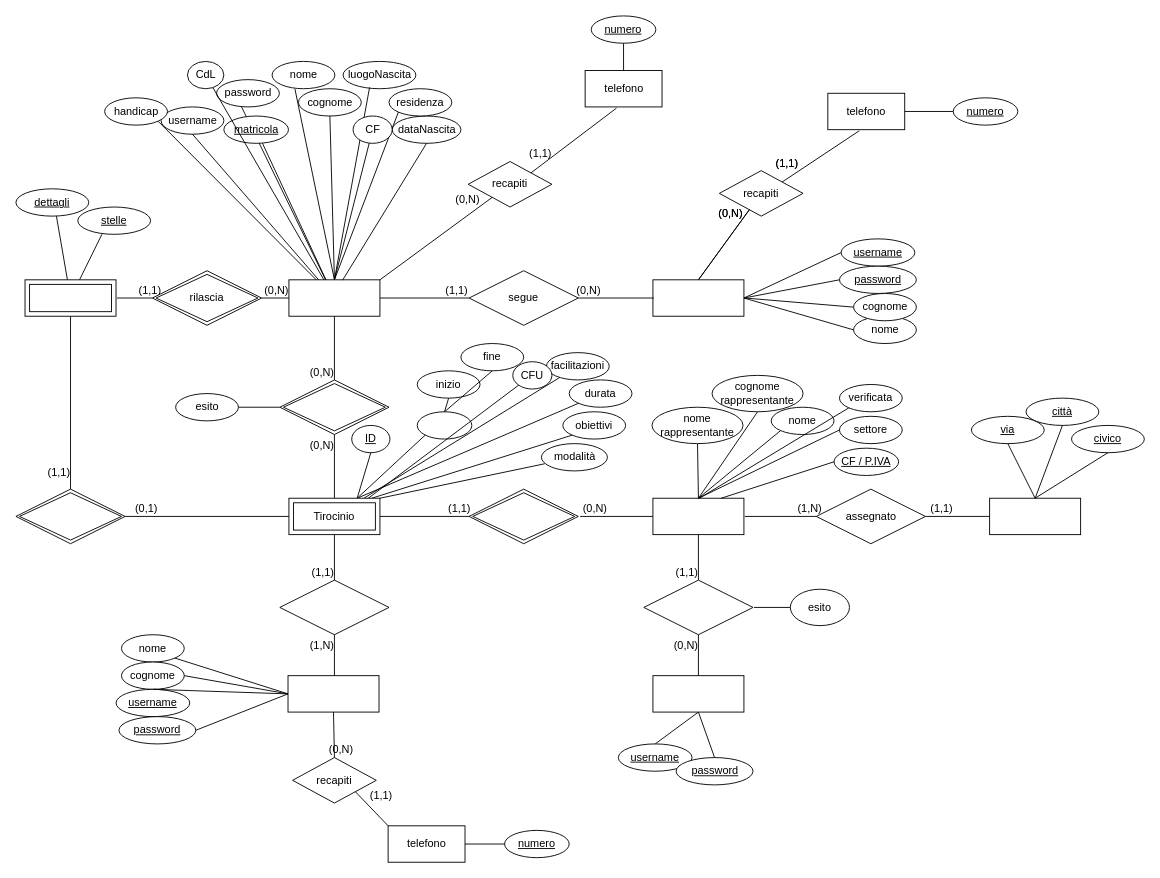
Some shapes in this 1160 by 878 pixel diagram are drawn without their labels. Here are the shapes that lost their labels. From the top down, the centre of each, then its label:
At point (70, 297): "Feedback".
At point (334, 297): "Studente".
At point (698, 297): "Tutor universitario".
At point (334, 407): "Svolge".
At point (444, 425): "orari".
At point (70, 516): "relativo".
At point (523, 516): "oOffre".
At point (698, 516): "Azienda".
At point (1035, 516): "Sede".
At point (334, 607): "sSegue".
At point (698, 607): "verifica".
At point (333, 693): "Tutor aziendale".
At point (698, 693): "Amministratore".
